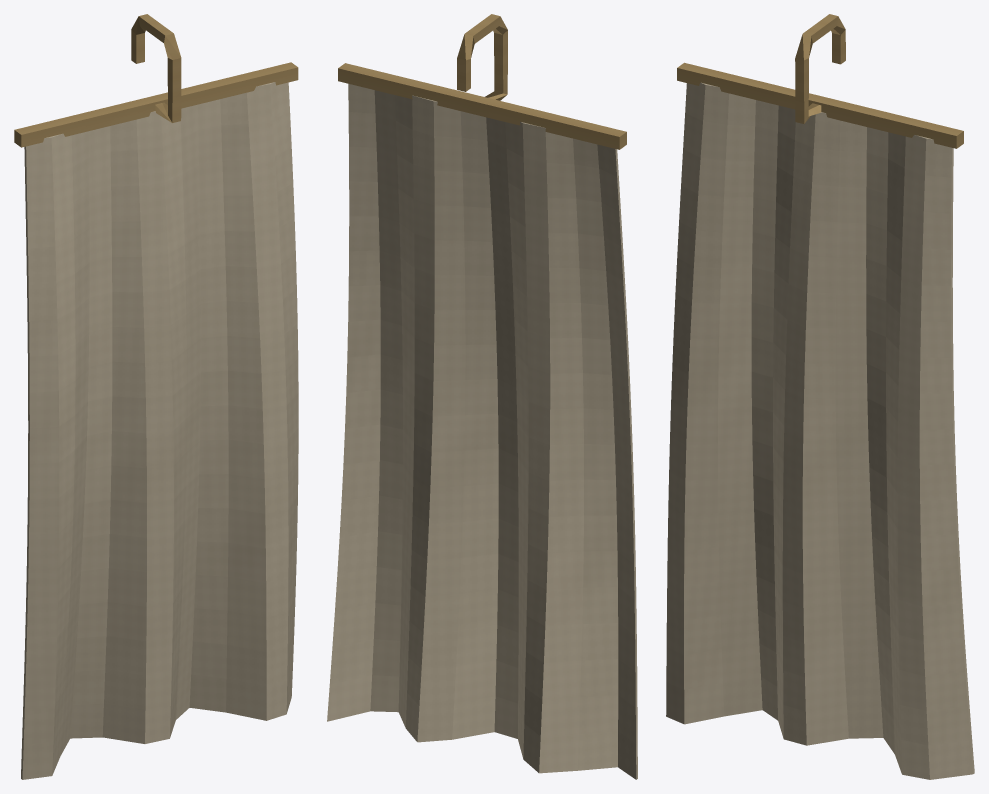
Rendered from AST-RTL-008_oatmeal_weave.glb.
The picture shows the model from 3 angles, left to right: view 1: azimuth 30°, elevation 25°; view 2: azimuth 150°, elevation 25°; view 3: azimuth 330°, elevation 25°; orthographic projection.
Visible parts, largest first — view 1: TEXTILE_AuthoredFoldedPanel, TEXTILE_SupportBar, TEXTILE_HangingNeck; view 2: TEXTILE_AuthoredFoldedPanel, TEXTILE_SupportBar, TEXTILE_HangingNeck; view 3: TEXTILE_AuthoredFoldedPanel, TEXTILE_SupportBar, TEXTILE_HangingNeck.
Boxes of the visible parts, box(x1,y1,x2,y2) form: TEXTILE_AuthoredFoldedPanel: box(21, 82, 298, 779); TEXTILE_SupportBar: box(14, 62, 298, 147); TEXTILE_HangingNeck: box(131, 14, 181, 122); TEXTILE_AuthoredFoldedPanel: box(327, 84, 637, 779); TEXTILE_SupportBar: box(338, 63, 626, 149); TEXTILE_HangingNeck: box(457, 14, 507, 100); TEXTILE_AuthoredFoldedPanel: box(666, 82, 974, 779); TEXTILE_SupportBar: box(677, 62, 963, 148); TEXTILE_HangingNeck: box(795, 14, 845, 123).
Bounding box in the file's own units: 0.59 × 1.4 × 0.1479.
2 materials, 2 textured.
